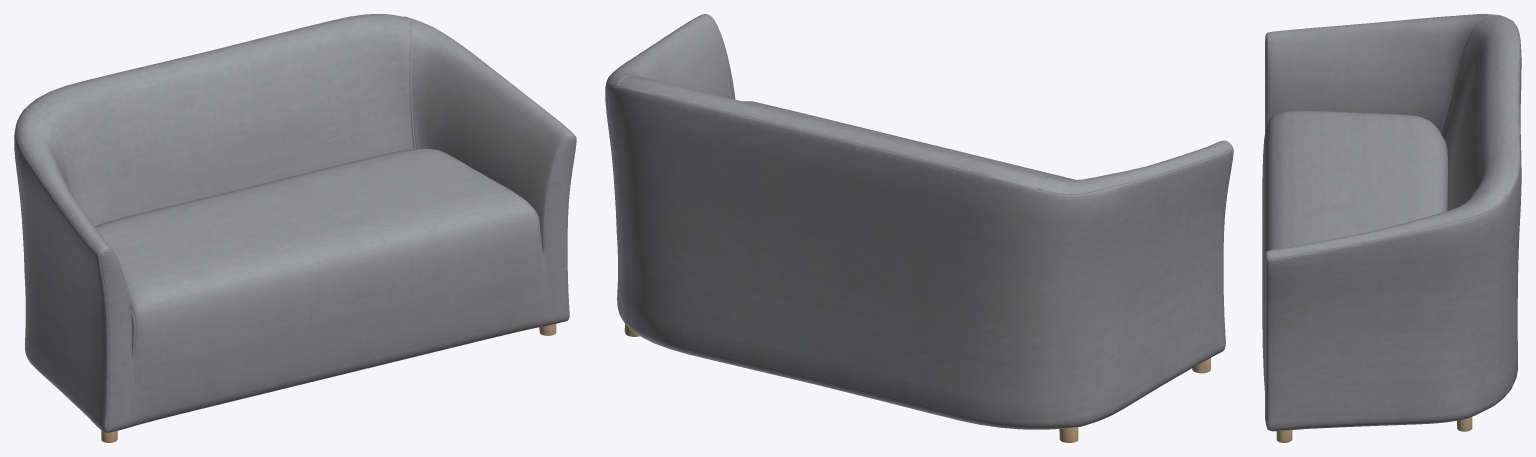
3 renders of one model, left to right at view 1: azimuth 30°, elevation 25°; view 2: azimuth 150°, elevation 25°; view 3: azimuth 270°, elevation 25°, orthographic. The views are drawn at different scales.
Visible parts, largest first — view 1: B07J4VDPFN; view 2: B07J4VDPFN; view 3: B07J4VDPFN.
Boxes of the visible parts, bbox=[...] form: B07J4VDPFN: bbox=[14, 14, 576, 442]; B07J4VDPFN: bbox=[605, 14, 1233, 442]; B07J4VDPFN: bbox=[1262, 14, 1521, 442].
Size of the model in its own units: 1.45 by 0.7211 by 0.705.
1 material, 1 textured.
